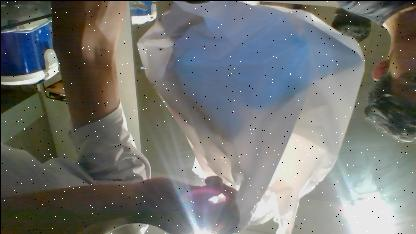Others: (138, 0, 364, 234)
